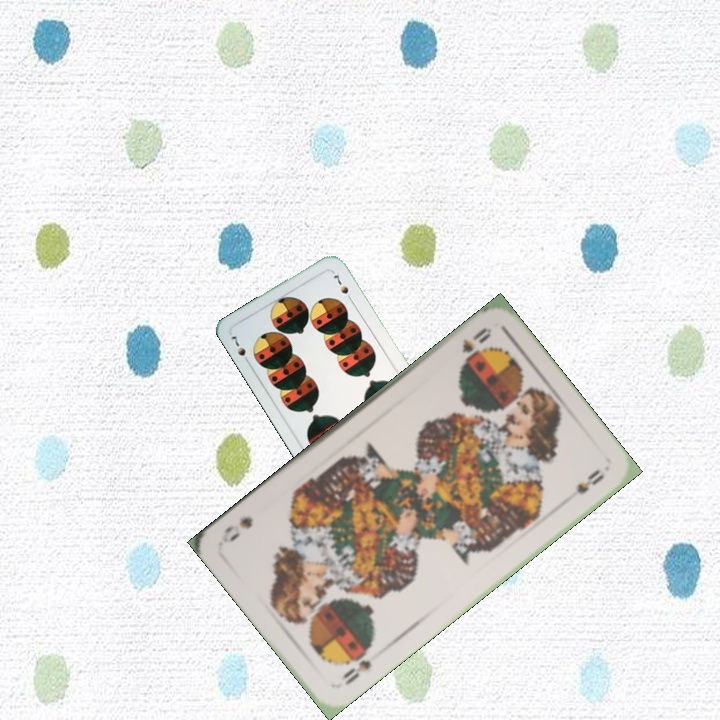S7: (227, 330, 253, 367)
SO: (457, 323, 495, 356), (337, 655, 375, 688)
